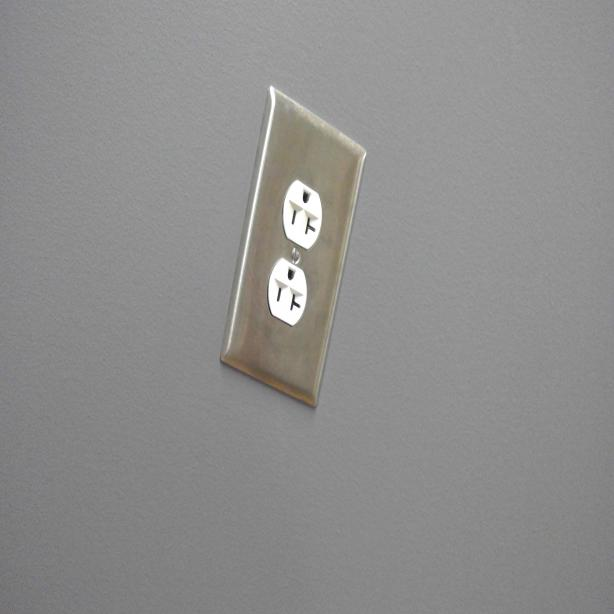typeb: (286, 182, 320, 245), (270, 260, 306, 318)
